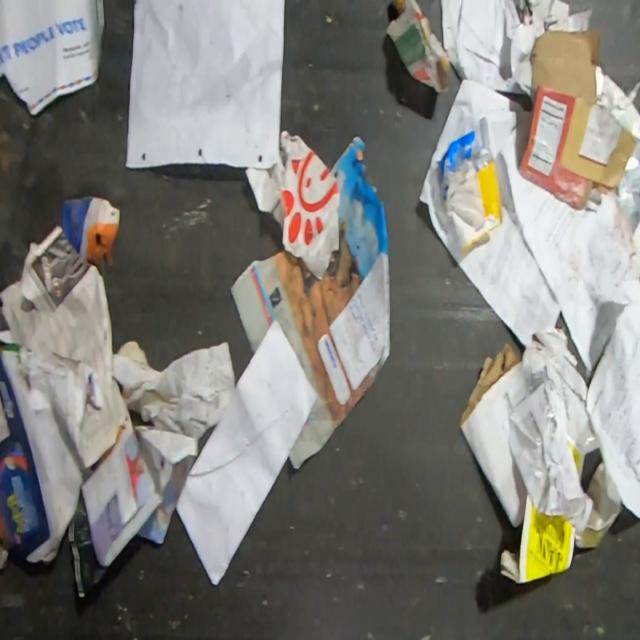cardboard: (518, 25, 638, 209), (459, 339, 531, 531), (522, 326, 600, 455)
soft_plastic: (436, 115, 503, 265)
